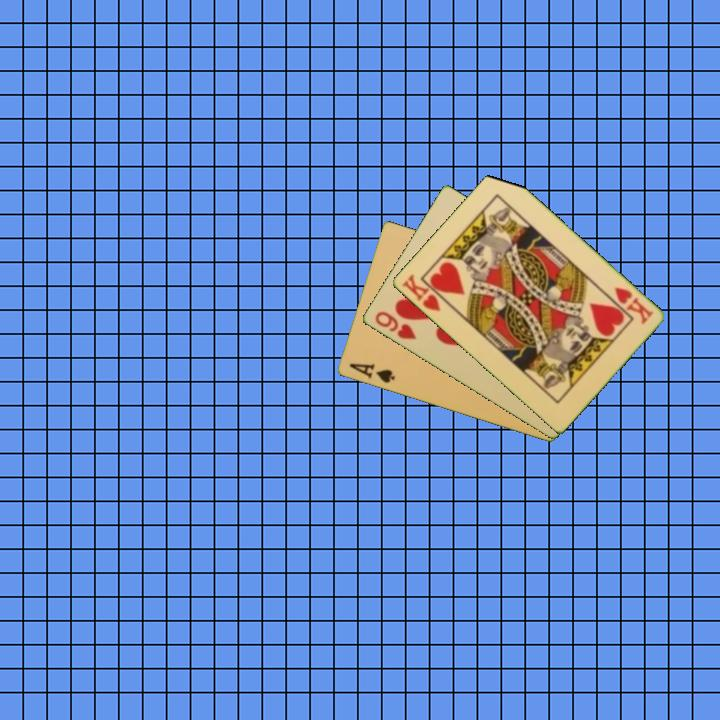9h: (371, 308, 419, 343)
As: (346, 360, 397, 386)
Kh: (399, 270, 452, 315), (610, 284, 656, 327)
